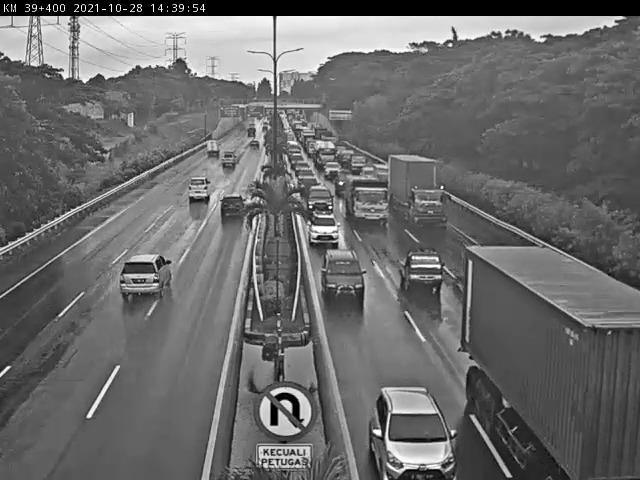big truck: (463, 241, 639, 480), (388, 153, 447, 228), (343, 176, 388, 222)
car: (366, 388, 454, 480), (118, 254, 172, 300), (321, 250, 366, 302), (397, 249, 443, 294), (308, 212, 338, 246), (218, 195, 246, 222), (306, 184, 331, 211), (188, 178, 210, 202), (297, 172, 318, 193), (219, 151, 237, 171)
